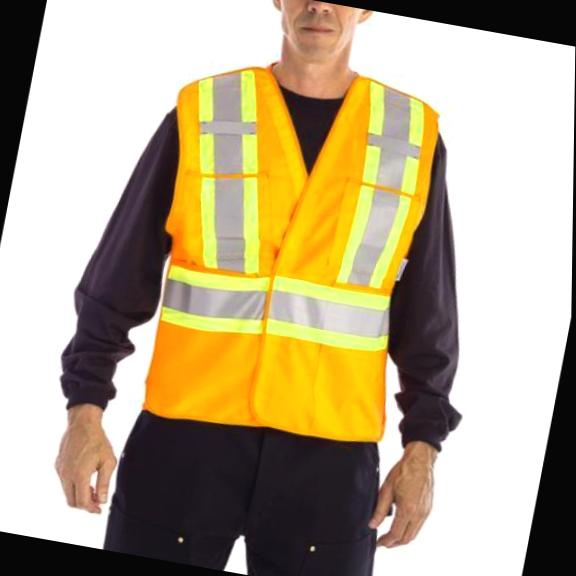safety_vest: (112, 44, 446, 454)
